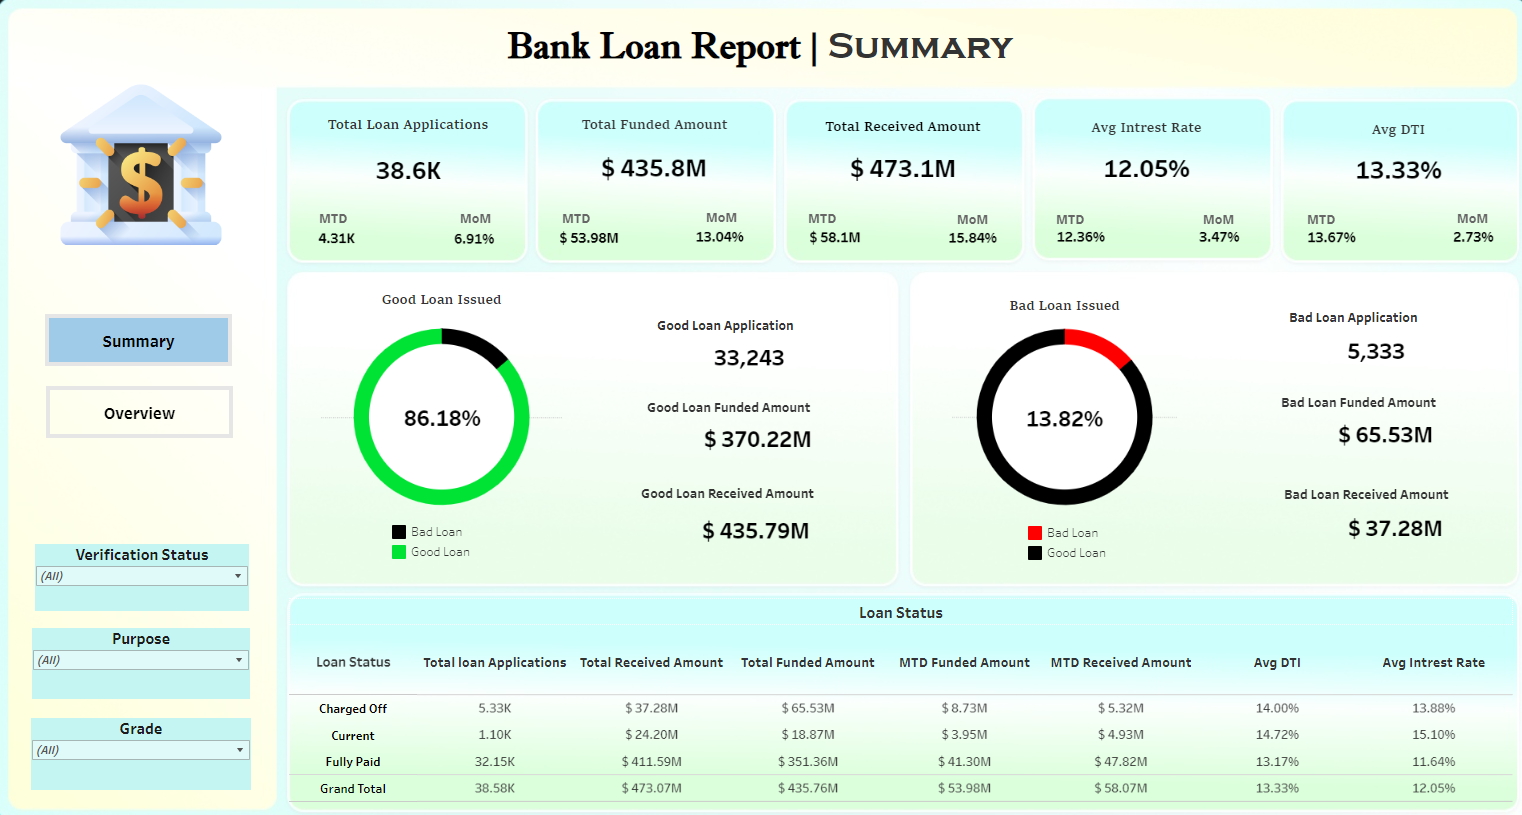

What the dashboard file says about the page in this screenshot:
{"tool":"tableau","page":{"name":"Summary","canvas":[1600,900],"ordinal":1},"visuals":[{"type":"image","param":"C:/Users/BHUSHAN/Downloads/ssd.png","box":[12,11,1533,829]},{"type":"text","box":[387,37,778,50]},{"type":"image","param":"C:/Users/BHUSHAN/Downloads/bank.png","box":[30,100,253,161]},{"type":"worksheet","title":"Total Loan Applications","mark":"Automatic","box":[311,126,226,85]},{"type":"worksheet","title":"Total Funded Amount","mark":"Automatic","box":[554,126,233,80]},{"type":"worksheet","title":"Total Received Amount","mark":"Automatic","box":[805,128,228,77]},{"type":"worksheet","title":"Avg Intrest Rate","mark":"Automatic","box":[1050,129,225,76]},{"type":"worksheet","title":"Avg DTI","mark":"Automatic","box":[1346,131,137,74]},{"type":"text","box":[707,217,61,30]},{"type":"text","box":[335,218,43,30]},{"type":"text","box":[461,218,61,30]},{"type":"text","box":[578,218,43,30]},{"type":"text","box":[824,218,43,30]},{"type":"text","box":[1458,218,61,30]},{"type":"text","box":[958,219,61,30]},{"type":"text","box":[1072,219,43,30]},{"type":"text","box":[1204,219,61,30]},{"type":"text","box":[1323,219,43,30]},{"type":"worksheet","title":"MoM Funded Amount","mark":"Automatic","box":[675,235,120,33]},{"type":"worksheet","title":"MTD Avg Intrest Rate","mark":"Automatic","box":[1051,239,90,25]},{"type":"worksheet","title":"MoM Avg DTI","mark":"Automatic","box":[1453,239,71,27]},{"type":"worksheet","title":"MTD Funded Amount","mark":"Automatic","box":[539,240,130,26]},{"type":"worksheet","title":"MoM Received Amount","mark":"Automatic","box":[948,240,79,26]},{"type":"worksheet","title":"MoM Avg Intrest Rate","mark":"Automatic","box":[1193,240,83,24]},{"type":"worksheet","title":"MoM Loan Applications","mark":"Automatic","box":[437,241,105,26]},{"type":"worksheet","title":"MTD Received Amount","mark":"Automatic","box":[805,241,90,23]},{"type":"worksheet","title":"MTD Avg DTI","mark":"Automatic","box":[1309,241,75,23]},{"type":"worksheet","title":"MTD Loan Applications","mark":"Automatic","box":[312,243,80,21]},{"type":"worksheet","title":"Good Loan Issued","mark":"Pie","rows":["Calculation_473159499443523585","Calculation_473159499443523585"],"box":[337,301,241,231]},{"type":"worksheet","title":"Bad Loan Issued","mark":"Pie","rows":["Calculation_473159499443523585","Calculation_473159499443523585"],"box":[968,307,225,220]},{"type":"worksheet","title":"Bad Loan Application","mark":"Automatic","box":[1301,316,181,66]},{"type":"worksheet","title":"Good Loan Application","mark":"Automatic","box":[669,324,191,64]},{"type":"dashboard-object","box":[61,330,187,52]},{"type":"worksheet","title":"Bad Loan Funded Amount","mark":"Automatic","box":[1293,401,215,63]},{"type":"dashboard-object","box":[62,402,187,52]},{"type":"worksheet","title":"Good Loan Funded Amount","mark":"Automatic","box":[659,406,227,61]},{"type":"worksheet","title":"Bad Loan Application % ","mark":"Automatic","box":[1014,406,131,55]},{"type":"worksheet","title":"Good Loan Application %","mark":"Automatic","box":[395,411,125,43]},{"type":"worksheet","title":"Good Loan Received Amount","mark":"Automatic","box":[653,492,236,73]},{"type":"worksheet","title":"Bad Loan Received Amount","mark":"Automatic","box":[1296,493,229,67]},{"type":"legend","title":"Good Loan Issued","param":"[federated.0jo257z184amy01brx45a1vlzrdv].[Good Vs Bad Loan (copy)_47315949949825","box":[405,538,140,64]},{"type":"legend","title":"Bad Loan Issued","param":"[federated.0jo257z184amy01brx45a1vlzrdv].[Good Vs Bad Loan]","box":[1041,539,140,64]},{"type":"filter","title":"Good Loan Issued","param":"[federated.0jo257z184amy01brx45a1vlzrdv].[none:verification_status:nk]","box":[51,560,214,67]},{"type":"worksheet","title":"Loan Status","mark":"Automatic","rows":["loan_status"],"box":[305,614,1224,204]},{"type":"filter","title":"Good Loan Issued","param":"[federated.0jo257z184amy01brx45a1vlzrdv].[none:purpose:nk]","box":[48,644,218,71]},{"type":"filter","title":"Good Loan Issued","param":"[federated.0jo257z184amy01brx45a1vlzrdv].[none:grade:nk]","box":[47,734,220,72]}]}

Visuals, with their boxes on the page's 1600x900 design canvas (x1, y1, x2, y2). These are canvas units, not pixel positions in the 1522x815 screenshot, which may show the page scaled, cropped or inside an application window:
image: x1=12, y1=11, x2=1545, y2=840
text: x1=387, y1=37, x2=1165, y2=87
image: x1=30, y1=100, x2=283, y2=261
"Total Loan Applications" worksheet: x1=311, y1=126, x2=537, y2=211
"Total Funded Amount" worksheet: x1=554, y1=126, x2=787, y2=206
"Total Received Amount" worksheet: x1=805, y1=128, x2=1033, y2=205
"Avg Intrest Rate" worksheet: x1=1050, y1=129, x2=1275, y2=205
"Avg DTI" worksheet: x1=1346, y1=131, x2=1483, y2=205
text: x1=707, y1=217, x2=768, y2=247
text: x1=335, y1=218, x2=378, y2=248
text: x1=461, y1=218, x2=522, y2=248
text: x1=578, y1=218, x2=621, y2=248
text: x1=824, y1=218, x2=867, y2=248
text: x1=1458, y1=218, x2=1519, y2=248
text: x1=958, y1=219, x2=1019, y2=249
text: x1=1072, y1=219, x2=1115, y2=249
text: x1=1204, y1=219, x2=1265, y2=249
text: x1=1323, y1=219, x2=1366, y2=249
"MoM Funded Amount" worksheet: x1=675, y1=235, x2=795, y2=268
"MTD Avg Intrest Rate" worksheet: x1=1051, y1=239, x2=1141, y2=264
"MoM Avg DTI" worksheet: x1=1453, y1=239, x2=1524, y2=266
"MTD Funded Amount" worksheet: x1=539, y1=240, x2=669, y2=266
"MoM Received Amount" worksheet: x1=948, y1=240, x2=1027, y2=266
"MoM Avg Intrest Rate" worksheet: x1=1193, y1=240, x2=1276, y2=264
"MoM Loan Applications" worksheet: x1=437, y1=241, x2=542, y2=267
"MTD Received Amount" worksheet: x1=805, y1=241, x2=895, y2=264
"MTD Avg DTI" worksheet: x1=1309, y1=241, x2=1384, y2=264
"MTD Loan Applications" worksheet: x1=312, y1=243, x2=392, y2=264
"Good Loan Issued" worksheet (Pie marks): x1=337, y1=301, x2=578, y2=532
"Bad Loan Issued" worksheet (Pie marks): x1=968, y1=307, x2=1193, y2=527
"Bad Loan Application" worksheet: x1=1301, y1=316, x2=1482, y2=382
"Good Loan Application" worksheet: x1=669, y1=324, x2=860, y2=388
dashboard-object: x1=61, y1=330, x2=248, y2=382
"Bad Loan Funded Amount" worksheet: x1=1293, y1=401, x2=1508, y2=464
dashboard-object: x1=62, y1=402, x2=249, y2=454
"Good Loan Funded Amount" worksheet: x1=659, y1=406, x2=886, y2=467
"Bad Loan Application % " worksheet: x1=1014, y1=406, x2=1145, y2=461
"Good Loan Application %" worksheet: x1=395, y1=411, x2=520, y2=454
"Good Loan Received Amount" worksheet: x1=653, y1=492, x2=889, y2=565
"Bad Loan Received Amount" worksheet: x1=1296, y1=493, x2=1525, y2=560
"Good Loan Issued" legend: x1=405, y1=538, x2=545, y2=602
"Bad Loan Issued" legend: x1=1041, y1=539, x2=1181, y2=603
"Good Loan Issued" filter: x1=51, y1=560, x2=265, y2=627
"Loan Status" worksheet: x1=305, y1=614, x2=1529, y2=818
"Good Loan Issued" filter: x1=48, y1=644, x2=266, y2=715
"Good Loan Issued" filter: x1=47, y1=734, x2=267, y2=806
